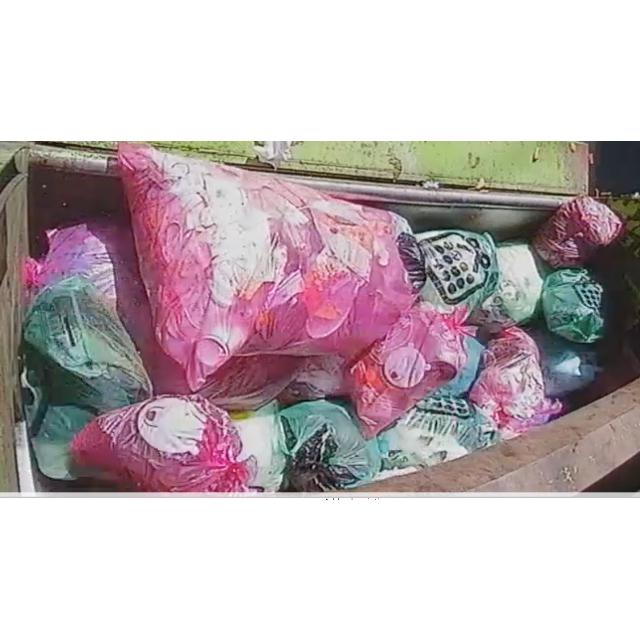general_trashbag: (21, 274, 151, 478), (279, 399, 381, 491), (379, 391, 499, 469), (415, 229, 499, 312), (478, 244, 542, 325), (542, 268, 604, 342)
other_trashbag: (119, 142, 420, 390), (70, 394, 252, 491), (350, 305, 466, 436), (469, 325, 562, 437), (531, 195, 624, 268)
